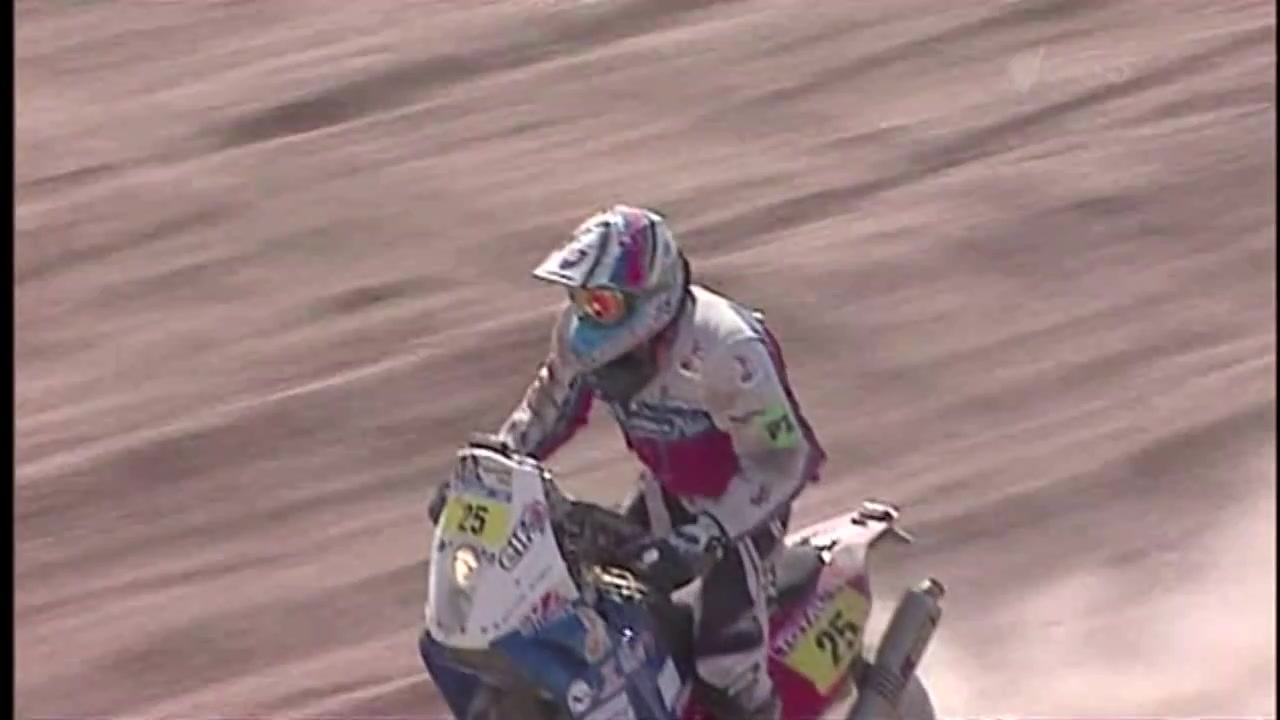motorbike: (418, 437, 950, 718)
